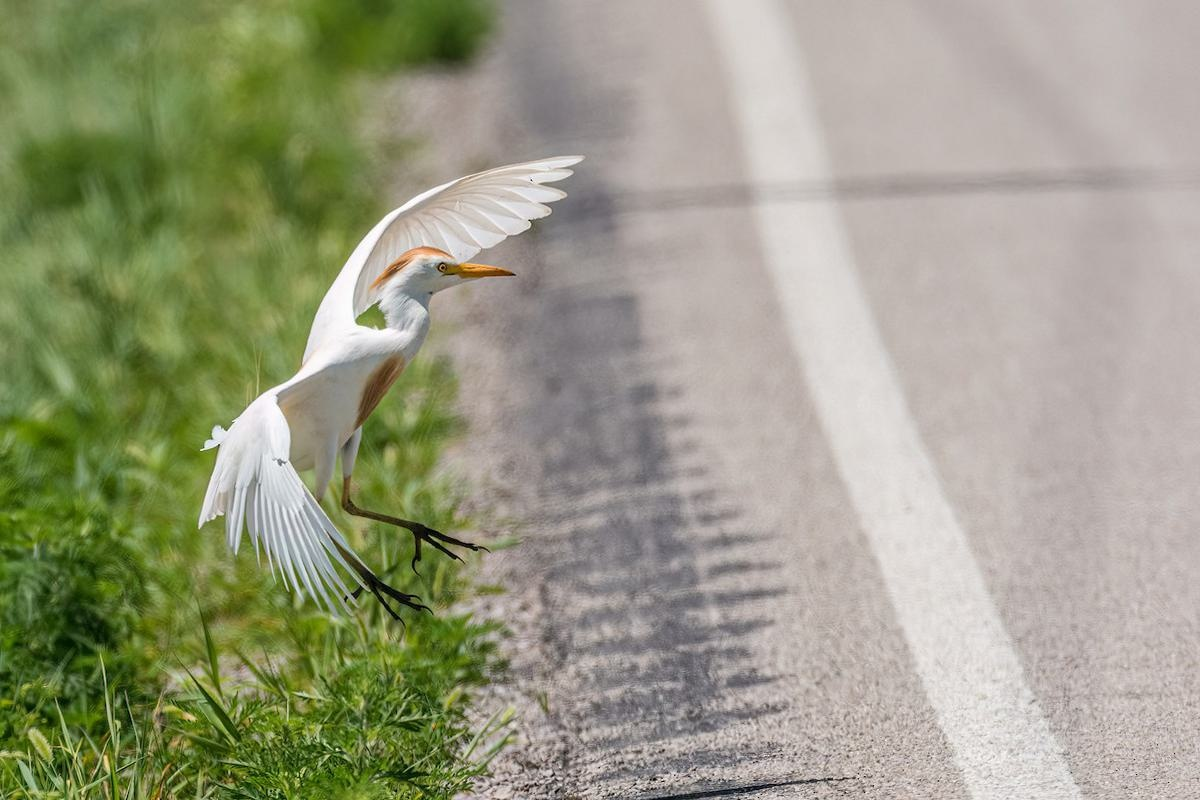egret: (194, 143, 608, 630)
